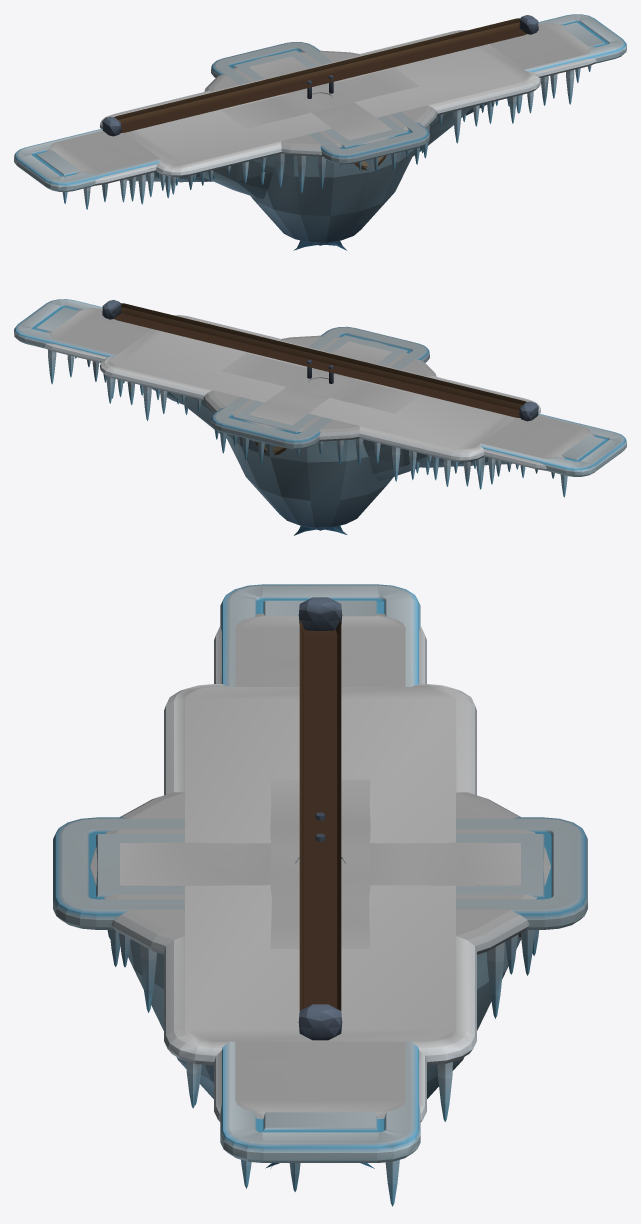
Rendered from glacier-4-DWV2YaiE.glb.
3 renders of one model, top to bottom at view 1: azimuth 30°, elevation 25°; view 2: azimuth 150°, elevation 25°; view 3: azimuth 270°, elevation 25°, orthographic. The views are drawn at different scales.
Visible parts, largest first — view 1: block_26x2x9#0, disc_14x1.5#1, mount_14.4#0, block_36x2x6#0, block_40x2x6_ice#0, block_7x2x16_ice#0, beam_12x1.5x3#0, block_30x2x6_grate#1, beam_3x1.5x12#0; view 2: block_26x2x9#0, disc_14x1.5#1, mount_14.4#0, block_36x2x6#0, block_40x2x6_ice#0, block_7x2x16_ice#0, beam_12x1.5x3#0, block_30x2x6_grate#1, beam_3x1.5x12#0; view 3: block_26x2x9#0, block_40x2x6_ice#0, block_7x2x16_ice#0, mount_14.4#0, block_36x2x6#0, disc_14x1.5#1, beam_3x1.5x12#0, beam_12x1.5x3#0, block_30x2x6_grate#1.
Part boxes in pixels (x1,y1,x2,y2): block_26x2x9#0: (100,30,540,198); disc_14x1.5#1: (204,50,437,245); mount_14.4#0: (102,15,538,136); block_36x2x6#0: (46,23,596,209); block_40x2x6_ice#0: (14,14,626,191); block_7x2x16_ice#0: (211,42,429,164); beam_12x1.5x3#0: (221,68,419,128); block_30x2x6_grate#1: (94,37,548,201); beam_3x1.5x12#0: (249,56,391,170); block_26x2x9#0: (100,315,540,486); disc_14x1.5#1: (203,335,436,530); mount_14.4#0: (102,300,538,421); block_36x2x6#0: (44,308,594,497); block_40x2x6_ice#0: (14,299,626,476); block_7x2x16_ice#0: (211,326,429,449); beam_12x1.5x3#0: (221,353,419,413); block_30x2x6_grate#1: (92,322,546,484); beam_3x1.5x12#0: (249,341,391,455); block_26x2x9#0: (164,684,476,1121); block_40x2x6_ice#0: (220,584,420,1162); block_7x2x16_ice#0: (53,817,587,929); mount_14.4#0: (298,597,342,1040); block_36x2x6#0: (214,613,426,1206); disc_14x1.5#1: (90,792,550,1098); beam_3x1.5x12#0: (120,842,520,937); beam_12x1.5x3#0: (269,779,371,948); block_30x2x6_grate#1: (215,658,425,1069).
Bounding box in the file's own units: 40 × 12.55 × 16.
